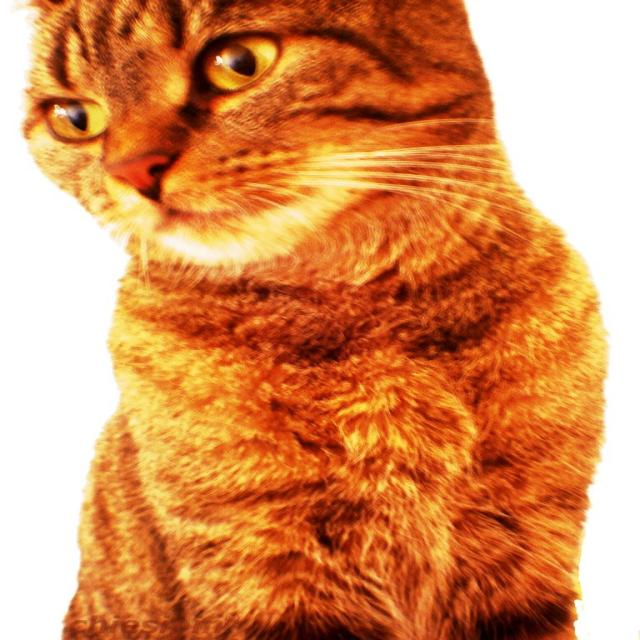Cat: (8, 0, 606, 639)
